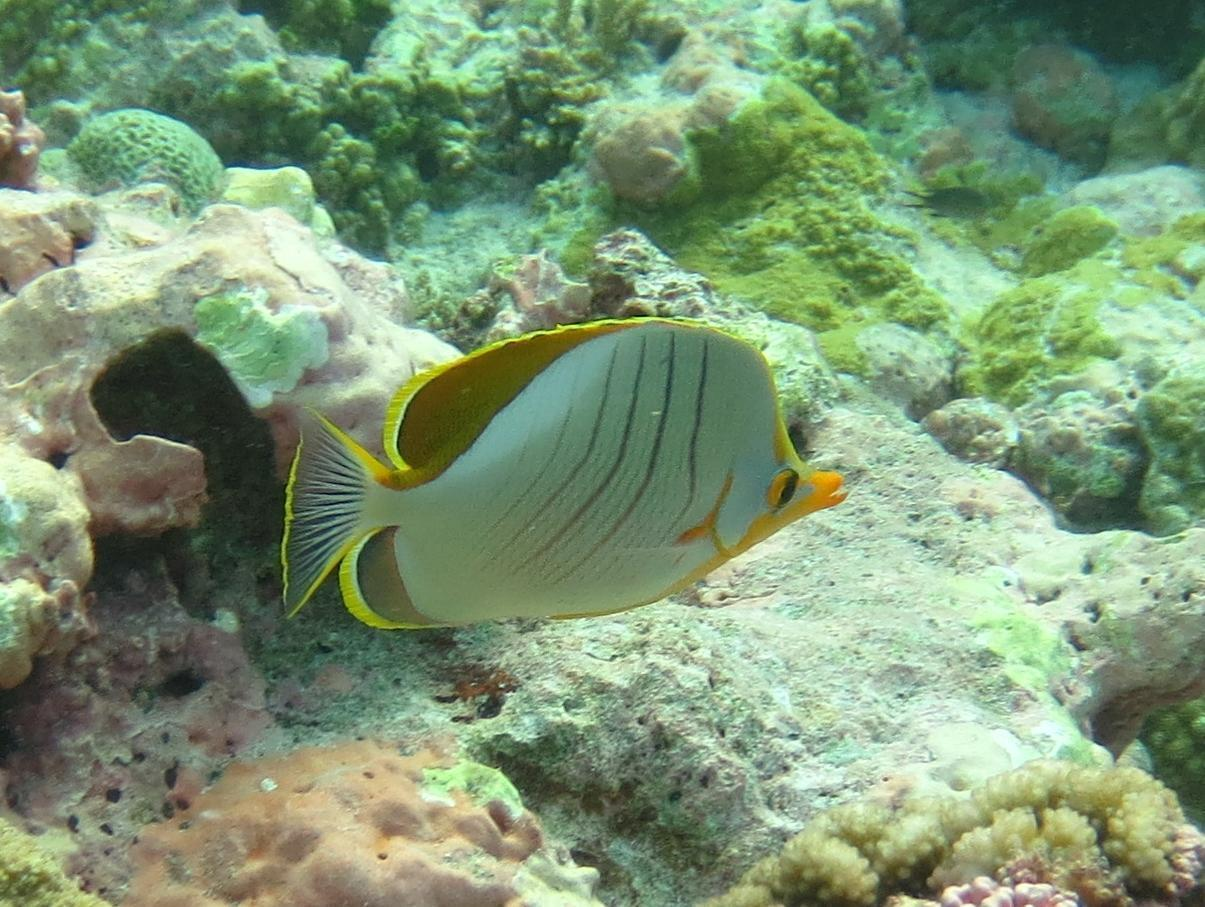Fish: (223, 294, 880, 646)
